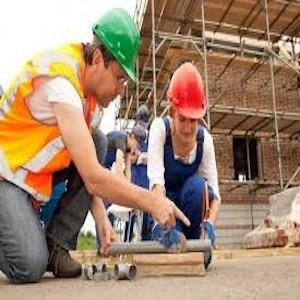safety: (92, 9, 141, 81), (169, 61, 207, 120)
